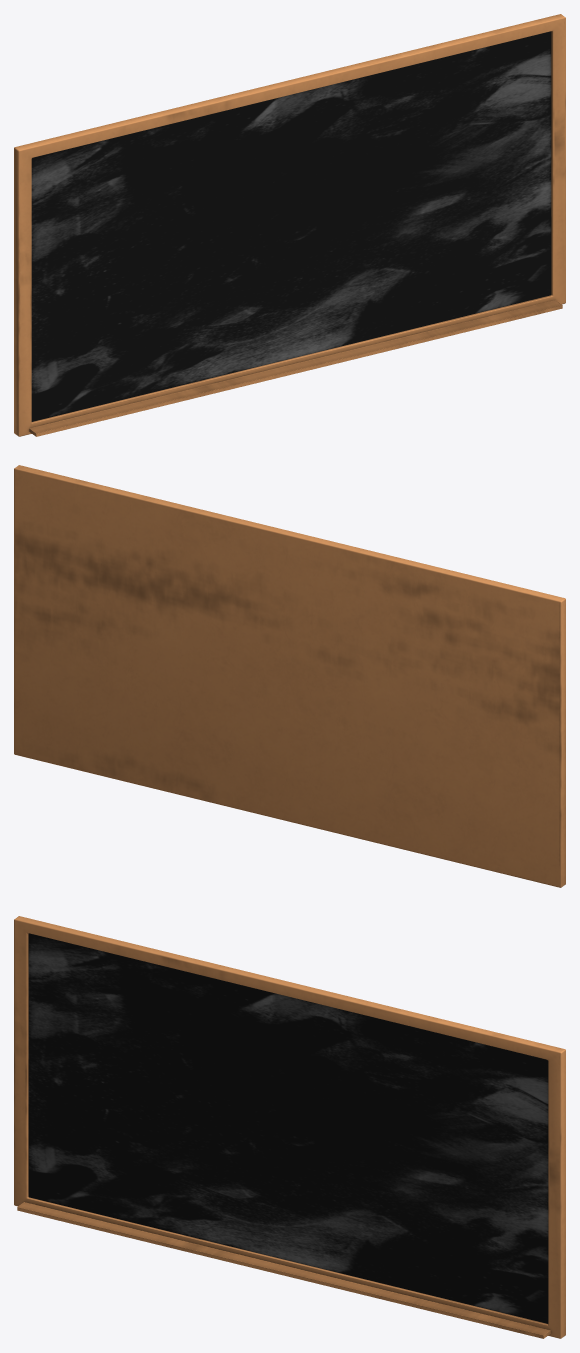
Rendered from Blackboard-Broken.fbx.
The picture shows the model from 3 angles, top to bottom: view 1: azimuth 30°, elevation 25°; view 2: azimuth 150°, elevation 25°; view 3: azimuth 330°, elevation 25°; orthographic projection.
Visible parts, largest first — view 1: Blackboard_Broken, Blackboard_Broken.001; view 2: Blackboard_Broken; view 3: Blackboard_Broken, Blackboard_Broken.001.
Boxes of the visible parts, x1,y1,x2,y2 form: Blackboard_Broken: [14, 14, 565, 436]; Blackboard_Broken.001: [297, 131, 458, 302]; Blackboard_Broken: [14, 465, 565, 887]; Blackboard_Broken: [14, 916, 565, 1338]; Blackboard_Broken.001: [295, 1091, 456, 1250].
Bounding box in the file's own units: 800 × 400 × 30.64.
